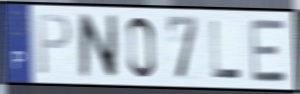0: (126, 15, 156, 79)
7: (165, 14, 200, 82)
E: (248, 18, 289, 84)
L: (209, 18, 244, 81)
N: (77, 12, 118, 81)
P: (36, 13, 73, 78)
